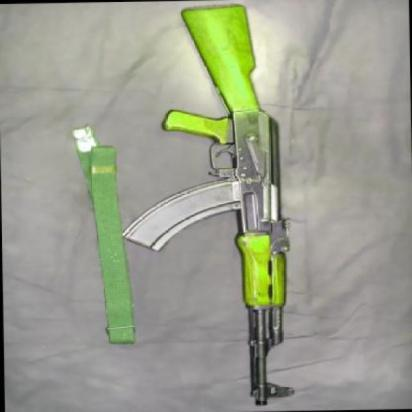Gun: (144, 3, 318, 400)
